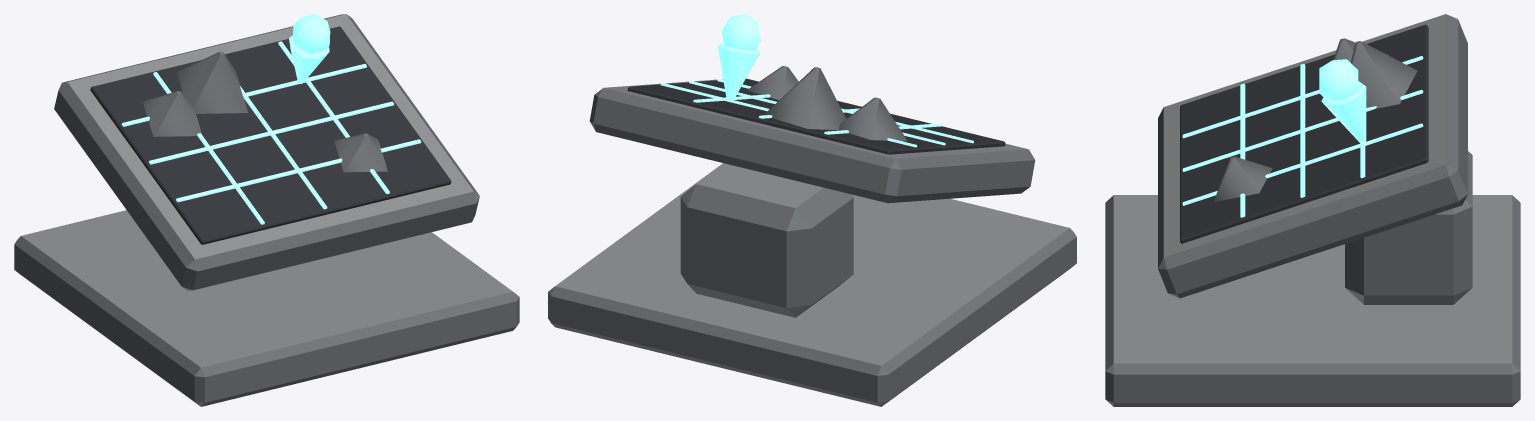
Rendered from R4X_Minimap_LOD1.glb.
3 renders of one model, left to right at view 1: azimuth 30°, elevation 25°; view 2: azimuth 150°, elevation 25°; view 3: azimuth 270°, elevation 25°, orthographic. The views are drawn at different scales.
Visible parts, largest first — view 1: R4X_Minimap_LOD1; view 2: R4X_Minimap_LOD1; view 3: R4X_Minimap_LOD1.
Part boxes in pixels (x1,y1,x2,y2): R4X_Minimap_LOD1: (14,14,519,406); R4X_Minimap_LOD1: (548,14,1076,406); R4X_Minimap_LOD1: (1105,14,1520,406).
Bounding box in the file's own units: 0.52 × 0.403 × 0.52.
